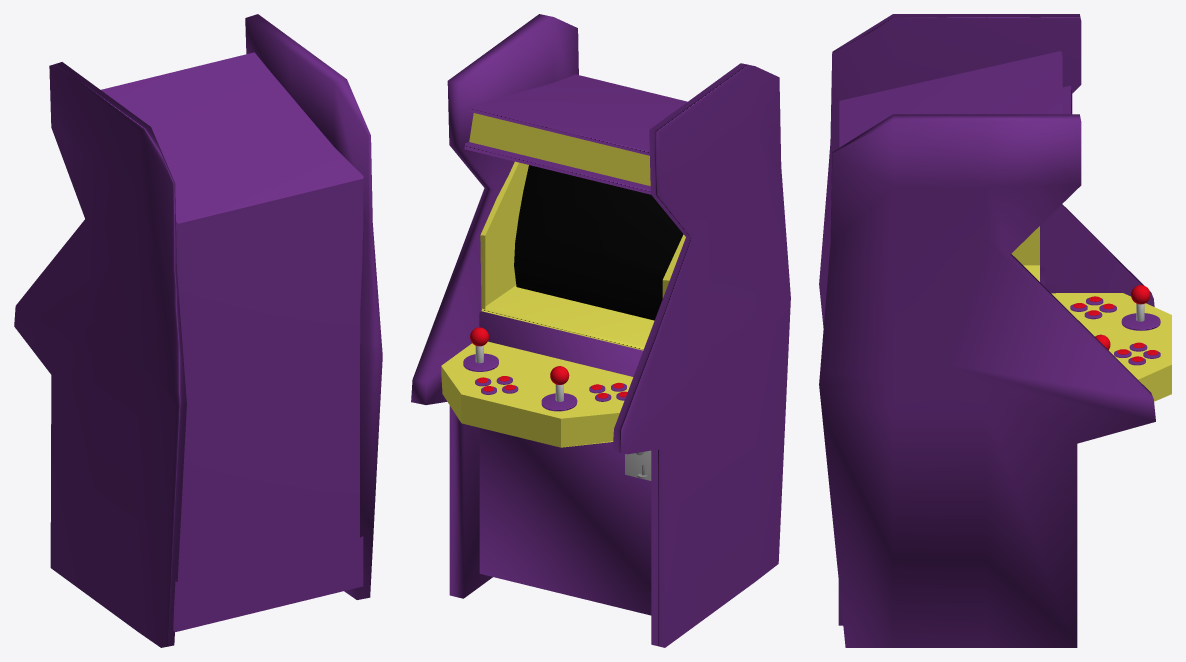
The model's file is recreativa_buena.glb.
The picture shows the model from 3 angles, left to right: view 1: azimuth 30°, elevation 25°; view 2: azimuth 150°, elevation 25°; view 3: azimuth 270°, elevation 25°; orthographic projection. The views are drawn at different scales.
Parts seen in each view (by area): view 1: Atras pantalla, pared A, Tapa arriba arriba, pared B; view 2: pared A, base interior, pared B, Pantalla, Cube, Tapa arriba arriba, Tapa arriba centro, Base pantalla, Lateral A pantalla, Tapa arriba abajo, Cube.001; view 3: pared B, pared A, Tapa arriba arriba, Cube, Lateral B pantalla, base joystick B.
Part boxes in pixels (x1,y1,x2,y2): Atras pantalla: (173,179,363,631); pared A: (14,62,186,647); Tapa arriba arriba: (101,52,363,223); pared B: (245,14,382,599); pared A: (612,63,790,647); base interior: (479,311,651,615); pared B: (411,14,578,598); Pantalla: (514,165,683,320); Cube: (441,341,633,447); Tapa arriba arriba: (470,74,687,155); Tapa arriba centro: (469,113,650,185); Base pantalla: (481,285,654,350); Lateral A pantalla: (480,161,528,309); Tapa arriba abajo: (464,142,650,194); Cube.001: (625,450,651,480); pared B: (819,114,1155,647); pared A: (819,14,1154,327); Tapa arriba arriba: (839,51,1062,147); Cube: (1051,293,1171,401); Lateral B pantalla: (1011,226,1039,265); base joystick B: (1121,313,1160,330).
Size of the model in its own units: 0.7787 by 1.78 by 1.08.
